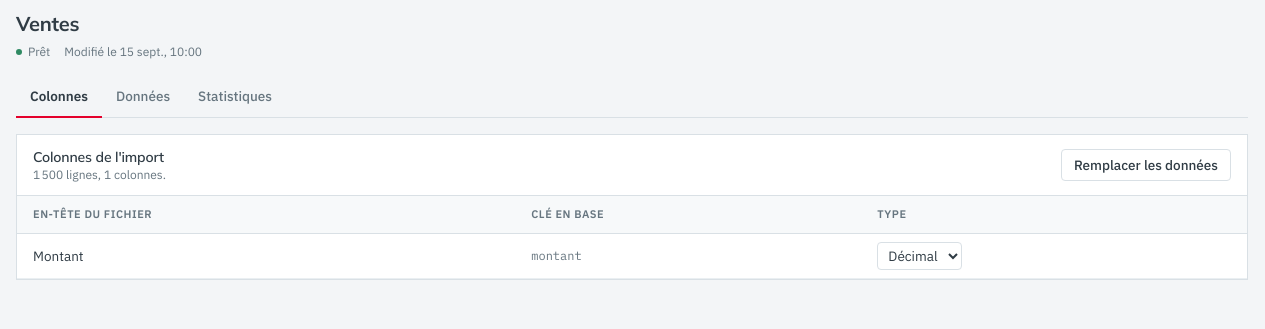
refuse un changement de type qui perdrait des valeurs, en montrant lesquelles
The image size is (1265, 329).
Select "Entier" in the dropdown named "Type de Montant". click: (920, 256)
box: x1=877 y1=242 x2=962 y2=270
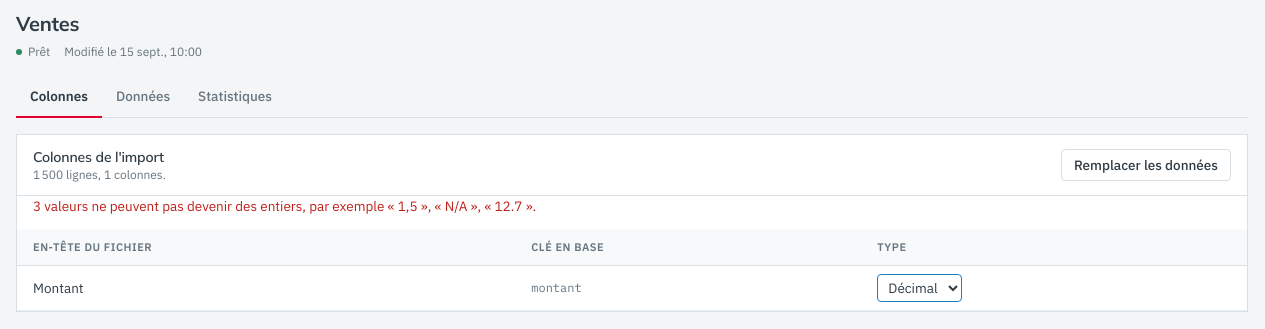
Result: the message shows "3 valeurs ne peuvent pas devenir des entiers, par exemple « 1,5 », « N/A », « 12.7 »." at x1=33 y1=197 x2=536 y2=215
